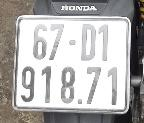1: (106, 64, 122, 112), (38, 63, 56, 105), (96, 23, 113, 62)
6: (29, 21, 49, 64)
7: (84, 64, 103, 109), (49, 21, 66, 62)
8: (56, 63, 79, 106)
9: (18, 63, 37, 105)
D: (77, 20, 98, 61)
